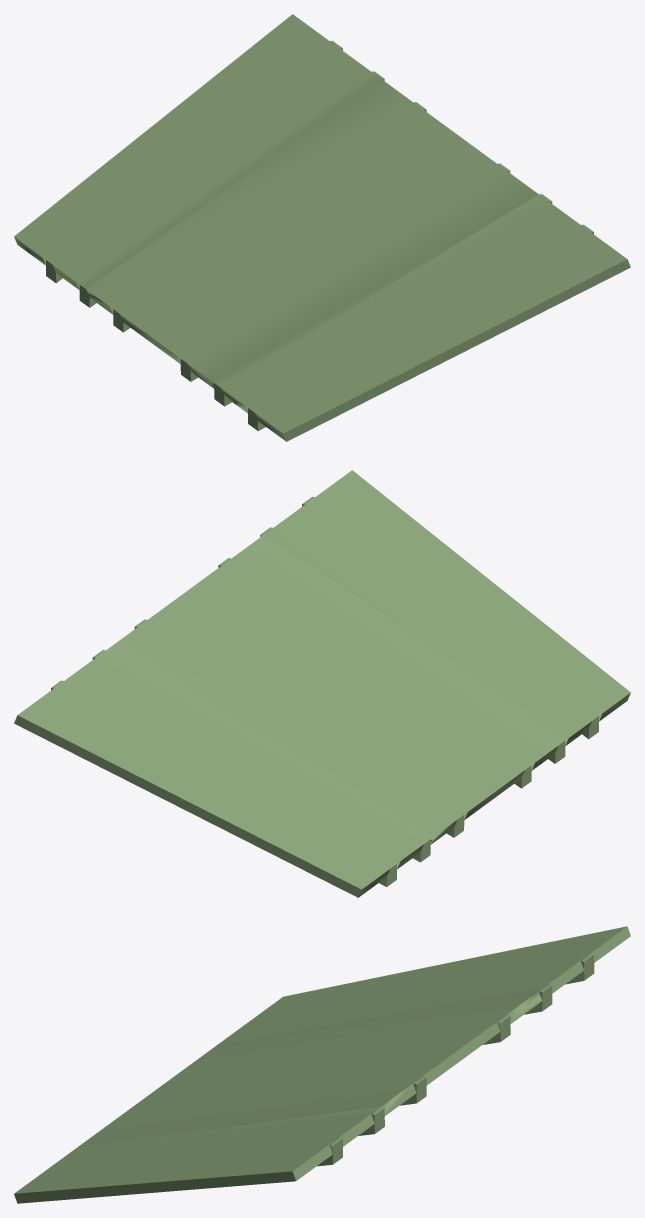
File: Door.fbx
The picture shows the model from 3 angles, top to bottom: view 1: azimuth 30°, elevation 25°; view 2: azimuth 150°, elevation 25°; view 3: azimuth 330°, elevation 25°; orthographic projection.
Parts seen in each view (by area): view 1: Spaceship Door; view 2: Spaceship Door; view 3: Spaceship Door.
Boxes of the visible parts, box(x1,y1,x2,y2) form: Spaceship Door: box(14, 14, 630, 441); Spaceship Door: box(14, 470, 630, 897); Spaceship Door: box(14, 926, 630, 1203).
Size of the model in its own units: 1117 by 481 by 2056.
